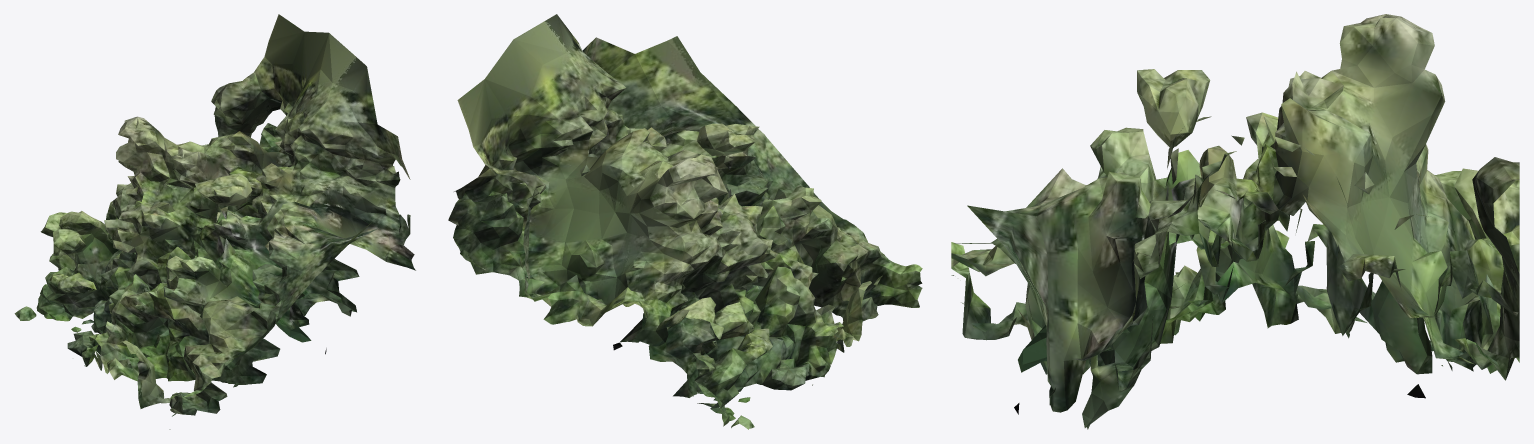
3 views of the same model, side by side, from view 1: azimuth 30°, elevation 25°; view 2: azimuth 150°, elevation 25°; view 3: azimuth 270°, elevation 25° (orthographic). The views are drawn at different scales.
Bounding box in the file's own units: 52.22 × 46.64 × 52.22.
Materials: 7 (7 with a texture image).
